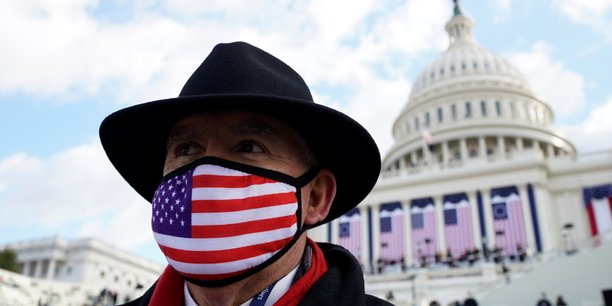with_mask: (143, 135, 316, 270)
